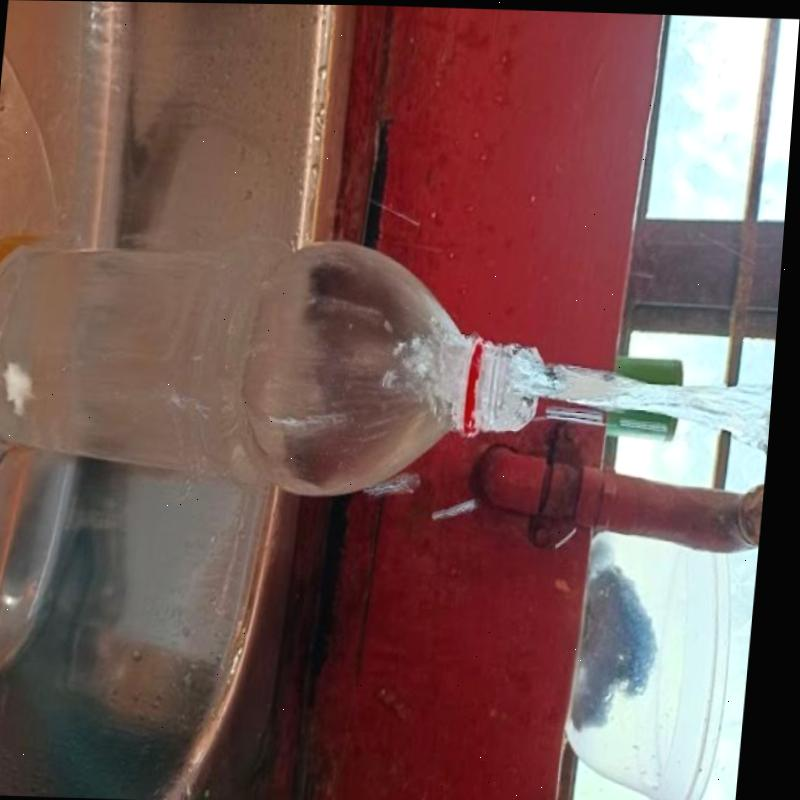botella: (0, 228, 554, 505)
